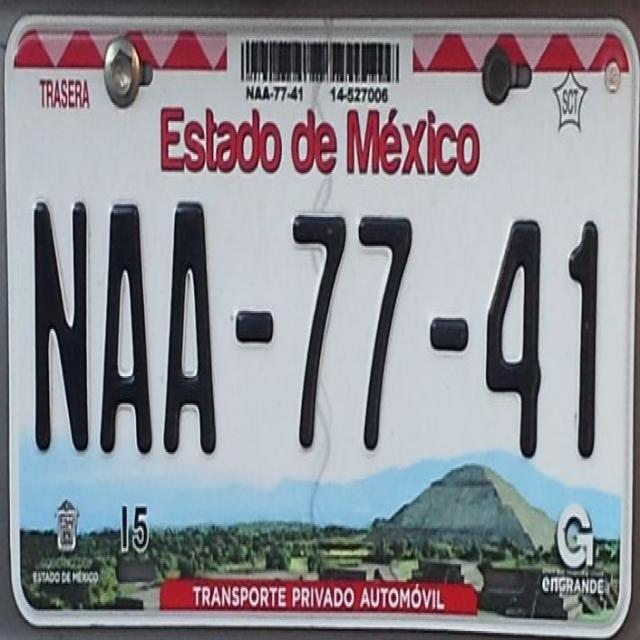placa: (8, 174, 630, 483)
